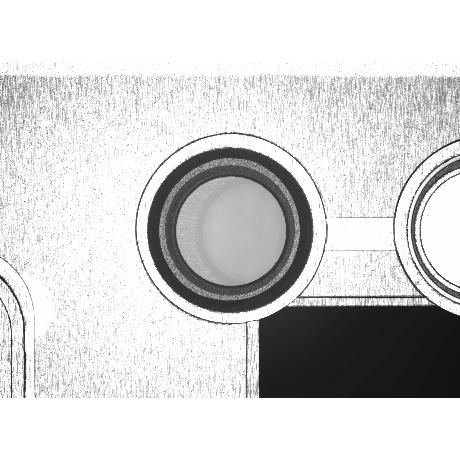Hole: (148, 148, 312, 314)
Hole2: (160, 159, 300, 301)
Hole3: (166, 166, 294, 296)
Hole4: (176, 178, 286, 286)
